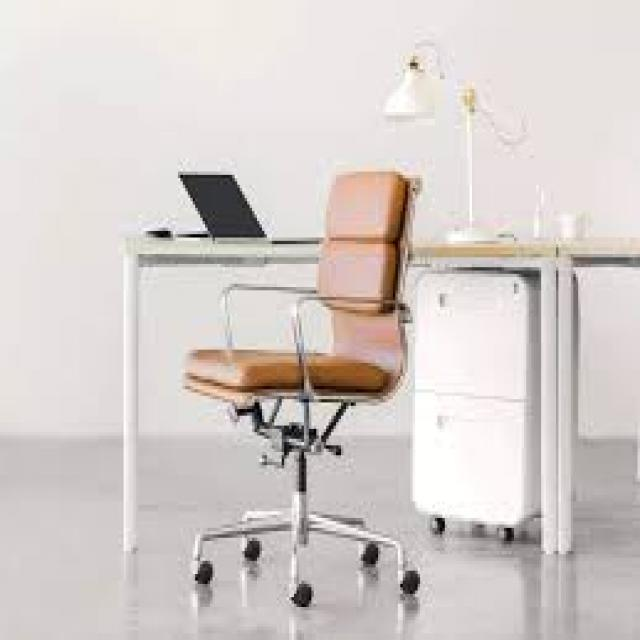chair: (181, 168, 425, 599)
